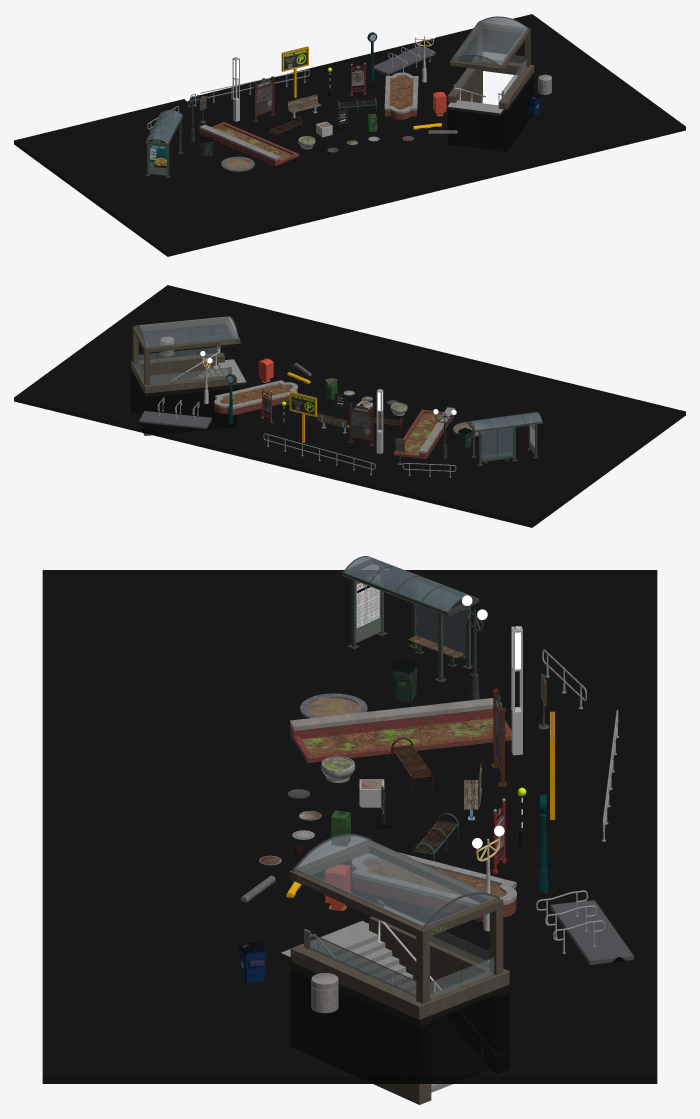
3 renders of one model, top to bottom at view 1: azimuth 30°, elevation 25°; view 2: azimuth 150°, elevation 25°; view 3: azimuth 270°, elevation 25°, orthographic. The views are drawn at different scales.
Visible parts, largest first — view 1: SAMPLE_GROUND1, subway, bench_bed, bus_stop, landscape_bed, directory, SAMPLE_GROUND2, public_parking, light, bench, flat_bed, rail_long (+1 smaller); view 2: SAMPLE_GROUND1, subway, bus_stop, bench_bed, landscape_bed, directory, SAMPLE_GROUND2, public_parking, light, rail_long; view 3: SAMPLE_GROUND1, subway, bench_bed, bus_stop, landscape_bed, SAMPLE_GROUND2, light, flat_bed, barrier, directory, trash_bin0, bench_double (+3 smaller).
Boxes of the visible parts, <box> form: SAMPLE_GROUND1: <box>14,14,685,256</box>; subway: <box>447,16,534,115</box>; bench_bed: <box>199,122,299,166</box>; bus_stop: <box>145,110,182,177</box>; landscape_bed: <box>384,72,418,119</box>; directory: <box>252,76,275,121</box>; SAMPLE_GROUND2: <box>374,46,435,75</box>; public_parking: <box>281,46,308,97</box>; light: <box>232,57,239,121</box>; bench: <box>287,94,321,118</box>; flat_bed: <box>221,156,254,171</box>; rail_long: <box>190,69,309,106</box>; SAMPLE_GROUND1: <box>14,285,685,527</box>; subway: <box>131,316,246,435</box>; bus_stop: <box>467,412,542,466</box>; bench_bed: <box>393,407,454,458</box>; landscape_bed: <box>214,380,297,415</box>; directory: <box>348,403,374,446</box>; SAMPLE_GROUND2: <box>139,411,211,429</box>; public_parking: <box>289,391,316,442</box>; light: <box>376,389,383,453</box>; rail_long: <box>263,433,375,475</box>; SAMPLE_GROUND1: <box>42,570,657,1083</box>; subway: <box>281,834,509,1104</box>; bench_bed: <box>290,698,511,762</box>; bus_stop: <box>342,556,478,682</box>; landscape_bed: <box>352,852,516,921</box>; SAMPLE_GROUND2: <box>550,900,634,964</box>; light: <box>511,626,522,755</box>; flat_bed: <box>300,693,367,718</box>; barrier: <box>311,973,338,1013</box>; directory: <box>491,688,507,786</box>; trash_bin0: <box>238,942,266,983</box>; bench_double: <box>413,813,458,861</box>.
Bounding box in the file's own units: 43.82 × 8.56 × 22.51.
45 materials, 43 textured.
